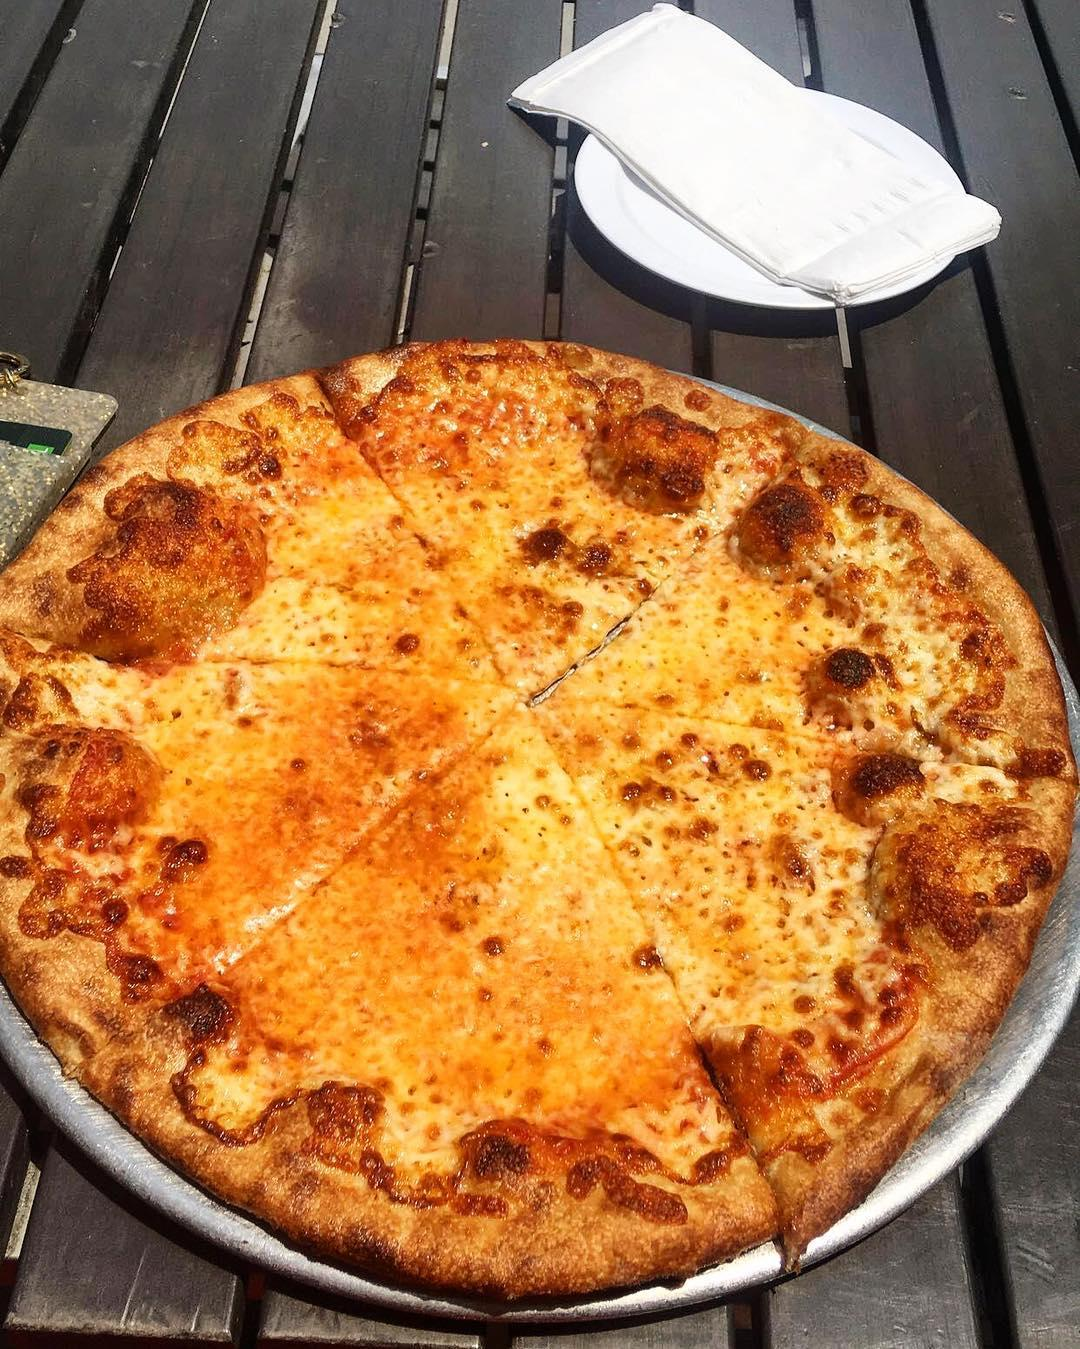Cheese: (227, 708, 469, 957), (548, 650, 811, 853), (480, 838, 760, 996), (271, 527, 488, 677), (487, 500, 646, 674)
Chicken: (478, 691, 540, 823)
Pizza: (0, 337, 1080, 1297)
